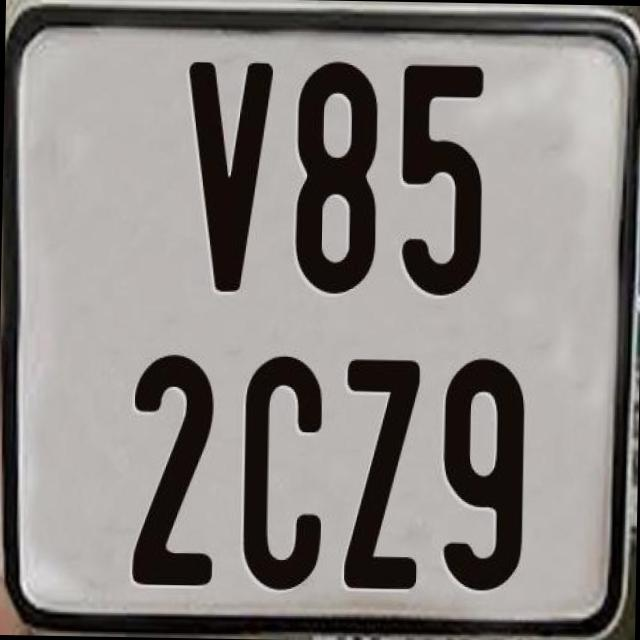2: (130, 352, 221, 586)
5: (398, 59, 488, 292)
8: (292, 61, 378, 296)
9: (437, 356, 525, 594)
C: (240, 354, 322, 592)
V: (184, 56, 278, 292)
Z: (340, 354, 420, 590)
